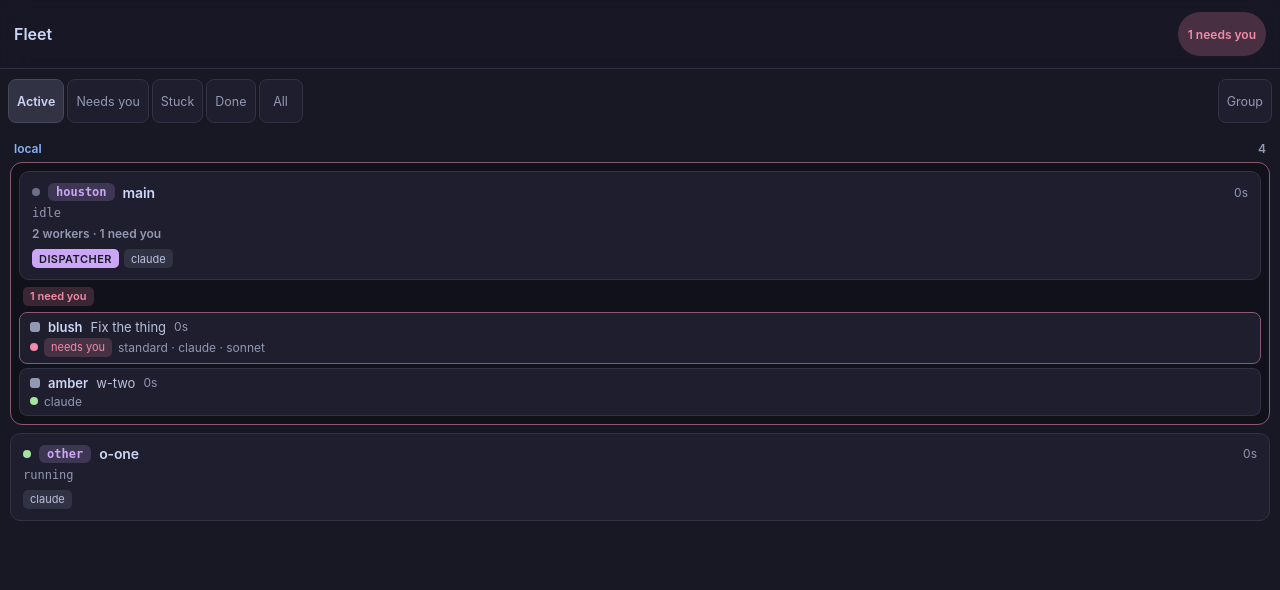
Test: FleetView dispatcher mode › counts the host header and project groups as head plus shown members
Check: the element with class "fleet-group" shows "4", box top-left (1258, 141), bottom-right (1266, 156)
Click the button with aria-label "Group by project". click: x=1245, y=101
box: top-left (1218, 79), bottom-right (1272, 123)
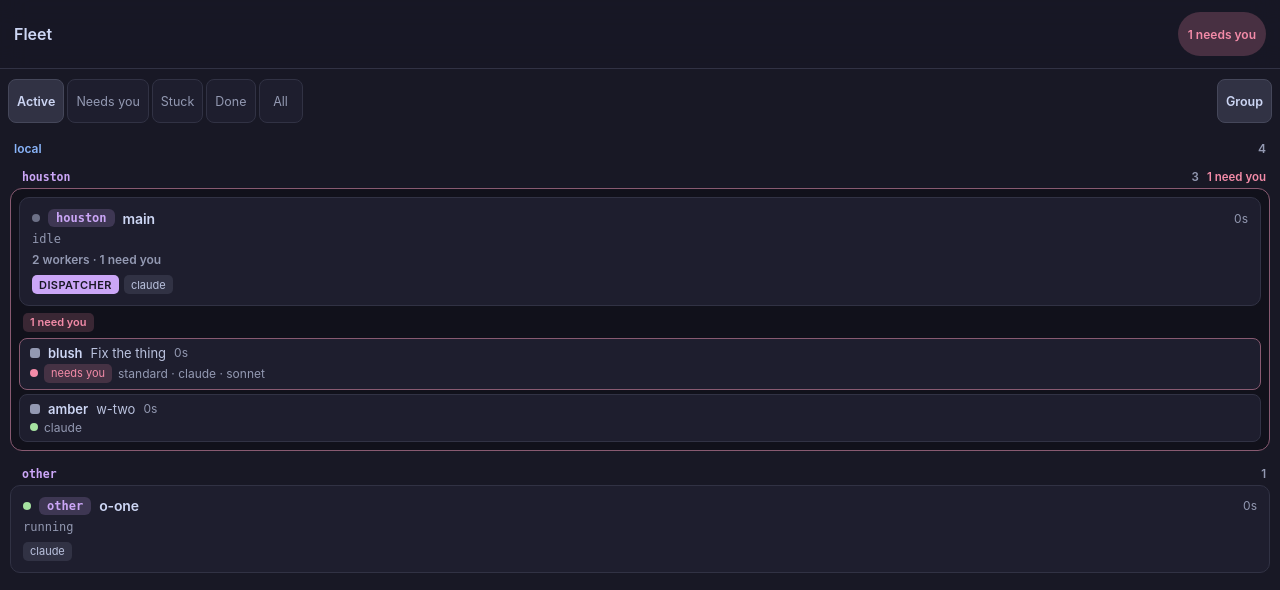
Check: the element with class "fleet-project-group" shows "3", box top-left (1192, 170), bottom-right (1199, 184)
Check: the element with class "fleet-project-group" shows "1 need you", box top-left (22, 170), bottom-right (1266, 184)
Check: the element with class "fleet-project-group" shows "1", box top-left (1261, 466), bottom-right (1266, 480)
